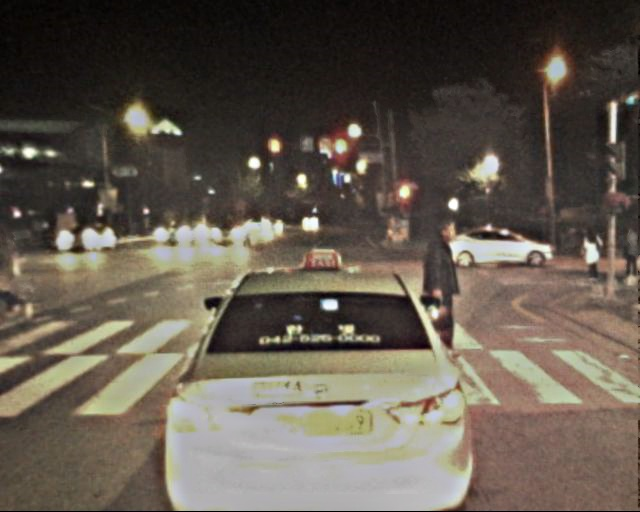person: (416, 219, 475, 362), (1, 222, 45, 320), (579, 226, 605, 289), (619, 225, 640, 281)
